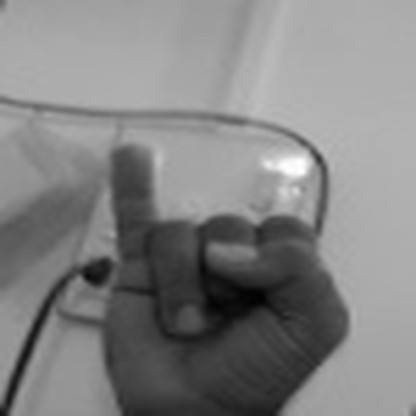i: (102, 114, 377, 416)
